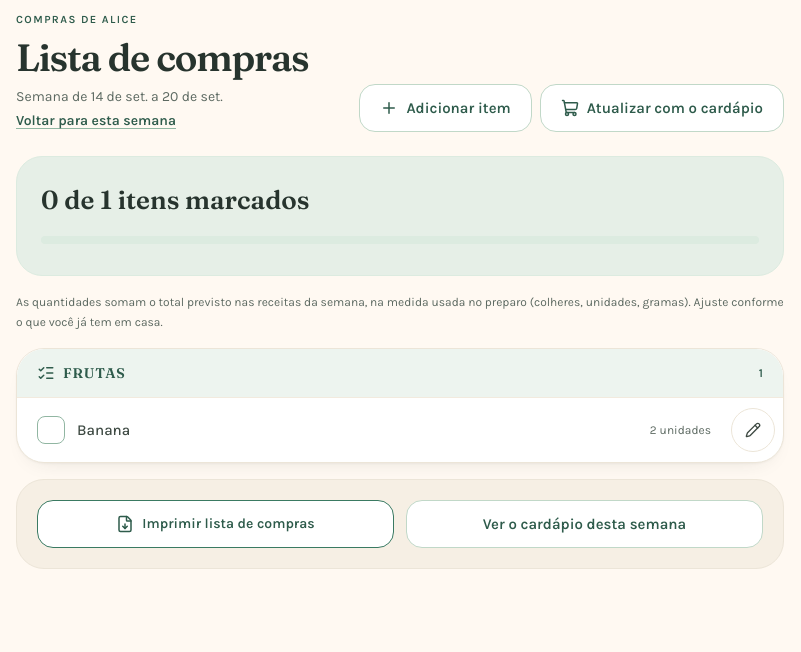
Scenario: shows a failed item update and leaves the item unchecked for retry
Click the button "Banana 2 unidades" at (104, 430), box [17,398,731,462]
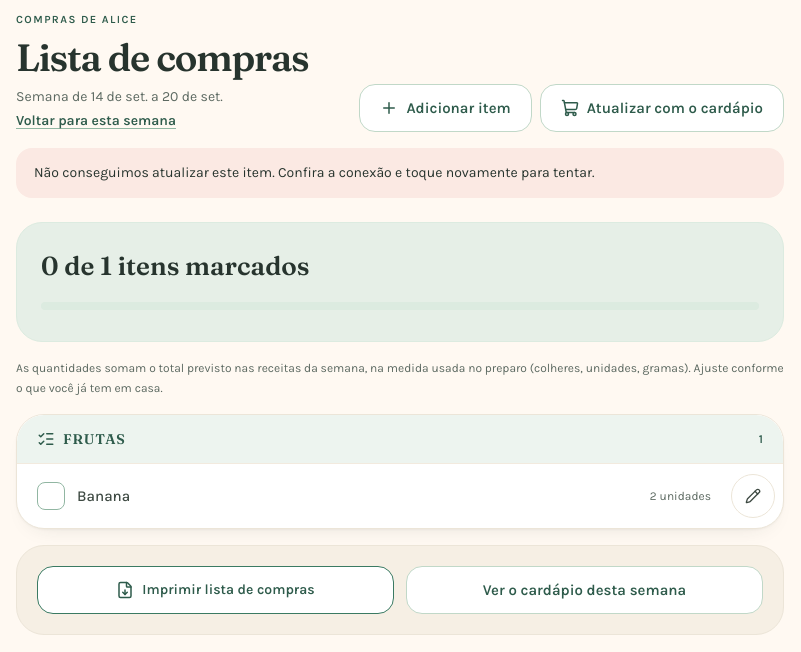
Now the message shows "Não conseguimos atualizar este item", box [34,164,594,181]
